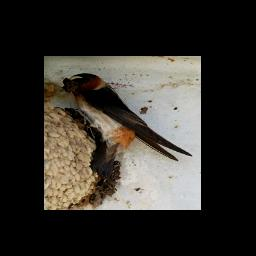Swallow: (63, 73, 194, 163)
